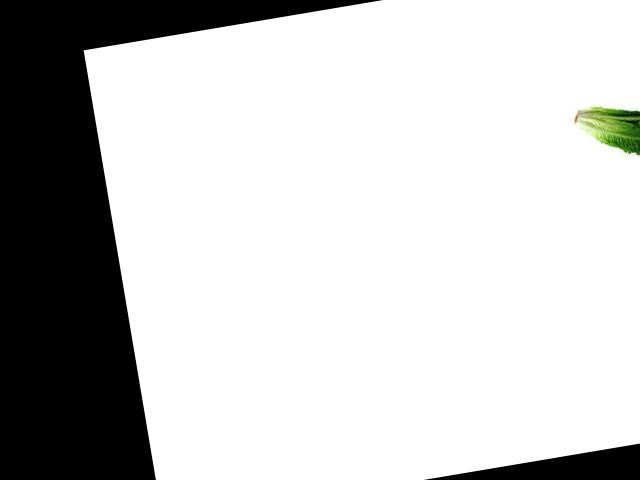lettuce: (567, 92, 640, 166)
